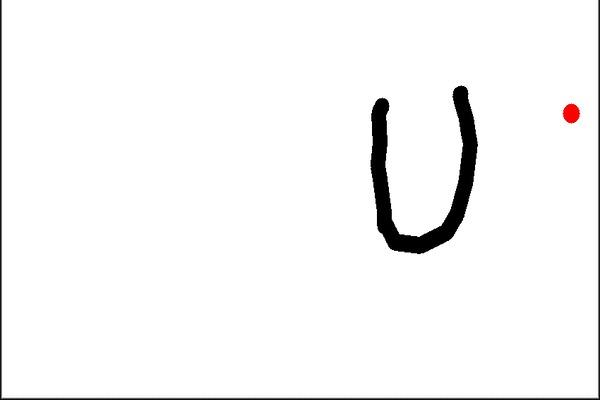U: (352, 79, 486, 280)
